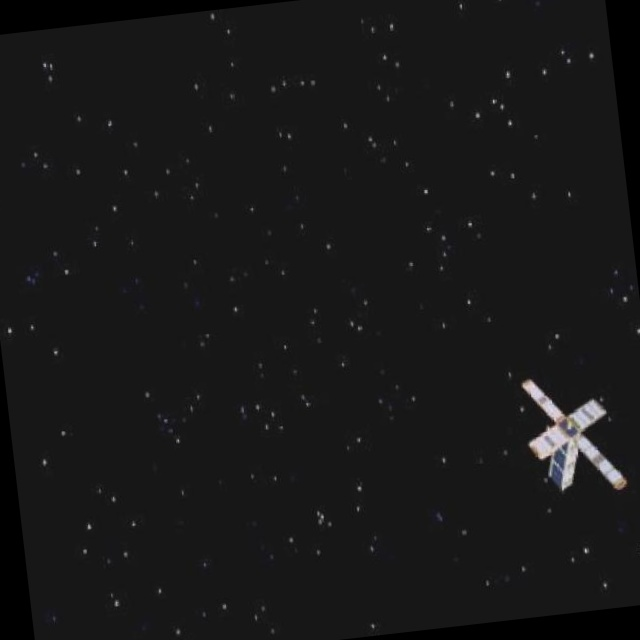medium_debris: (512, 354, 640, 501)
